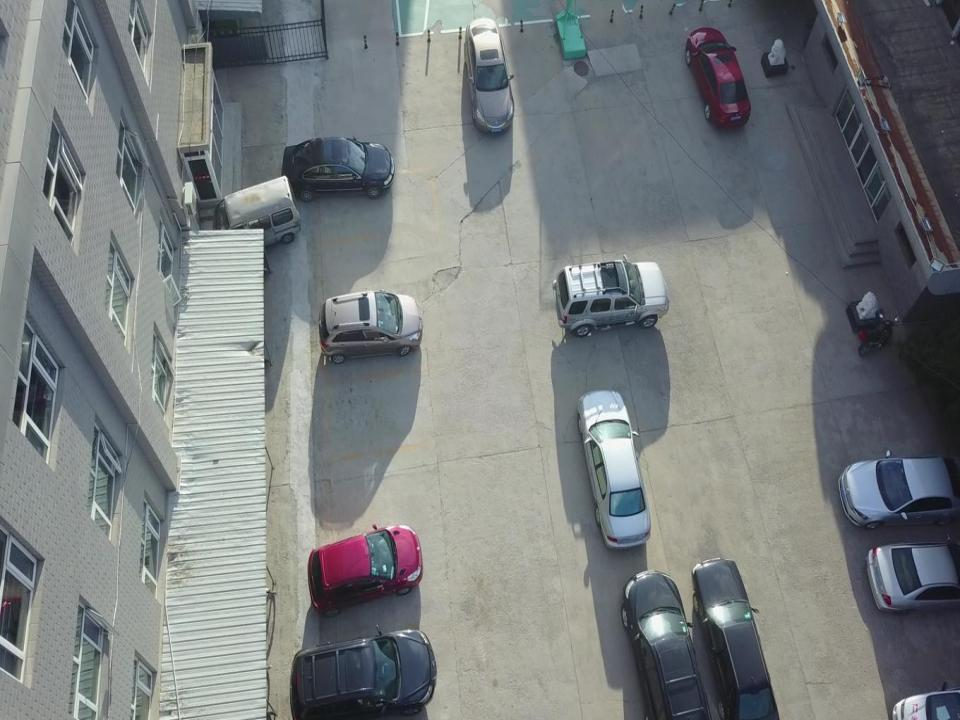car: (691, 558, 780, 720), (289, 625, 437, 719), (621, 570, 712, 719), (577, 390, 651, 548), (307, 524, 423, 618), (553, 254, 669, 338), (838, 450, 960, 529), (318, 289, 423, 362), (865, 534, 960, 614), (281, 136, 395, 202), (685, 27, 752, 129), (464, 17, 514, 135)
van: (212, 175, 302, 251)
